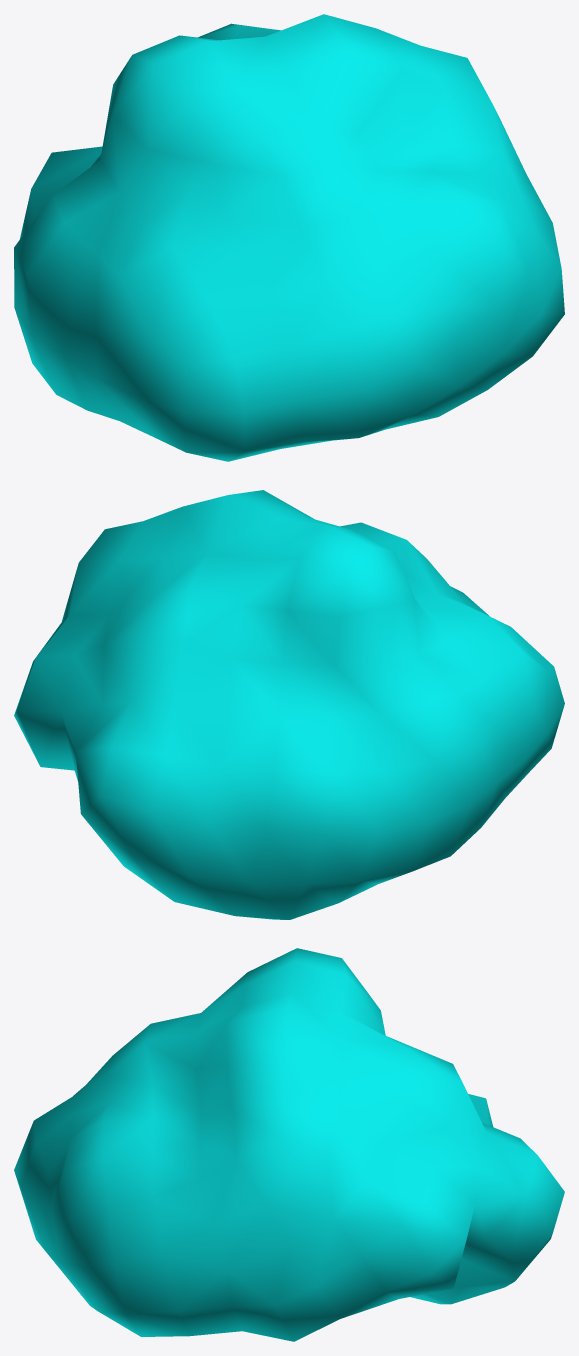
Rendered from BWallBWall_C_LP.fbx.
The picture shows the model from 3 angles, top to bottom: view 1: azimuth 30°, elevation 25°; view 2: azimuth 150°, elevation 25°; view 3: azimuth 270°, elevation 25°; orthographic projection. The views are drawn at different scales.
Parts seen in each view (by area): view 1: BWall_C_LP; view 2: BWall_C_LP; view 3: BWall_C_LP.
Boxes of the visible parts, bbox=[...] form: BWall_C_LP: bbox=[14, 14, 564, 461]; BWall_C_LP: bbox=[14, 490, 564, 919]; BWall_C_LP: bbox=[14, 948, 564, 1341].
Bounding box in the file's own units: 5.12 × 4.07 × 5.97.
